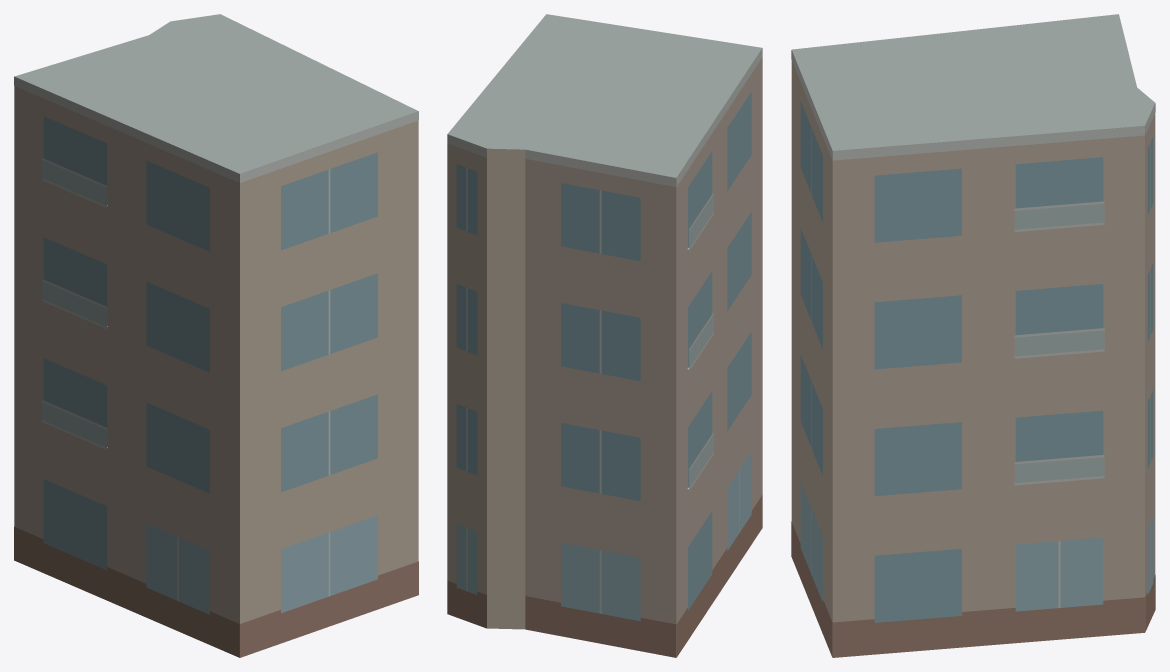
Rendered from survey-upis-32457820.glb.
3 renders of one model, left to right at view 1: azimuth 30°, elevation 25°; view 2: azimuth 150°, elevation 25°; view 3: azimuth 270°, elevation 25°, orthographic. The views are drawn at different scales.
Visible parts, largest first — view 1: survey-upis-32457820.tmp; view 2: survey-upis-32457820.tmp; view 3: survey-upis-32457820.tmp.
Boxes of the visible parts, bbox=[...] form: survey-upis-32457820.tmp: bbox=[14, 14, 418, 657]; survey-upis-32457820.tmp: bbox=[447, 14, 762, 657]; survey-upis-32457820.tmp: bbox=[791, 14, 1155, 657].
Size of the model in its own units: 7.42 by 12.8 by 8.34.
